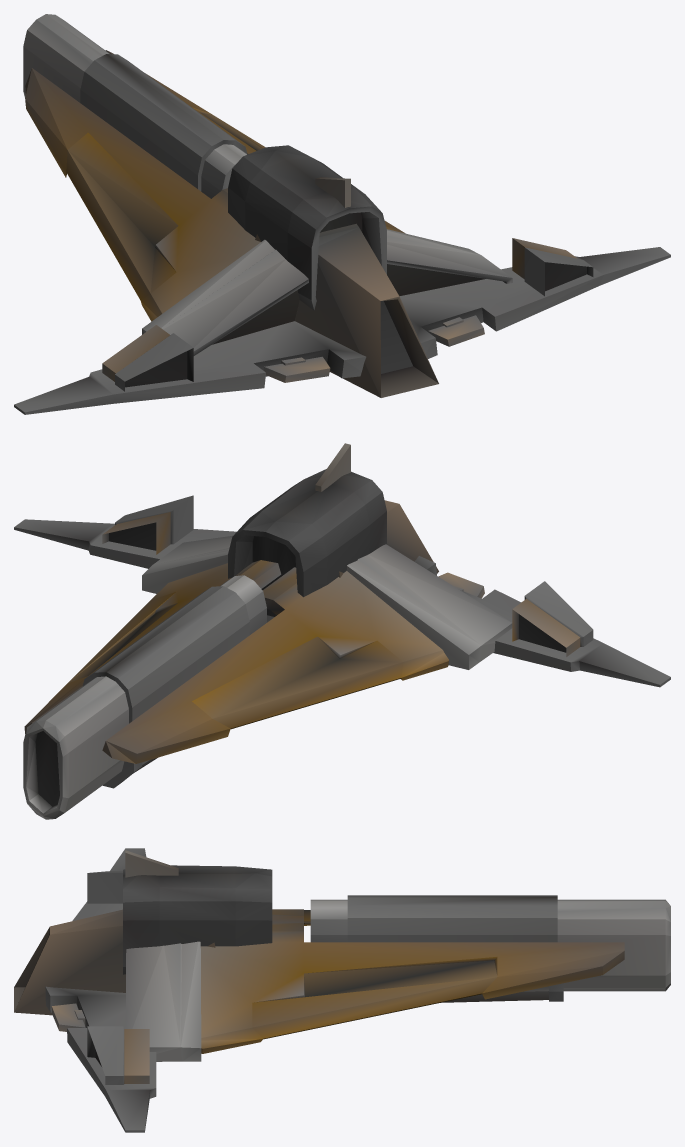
File: omen.glb
3 renders of one model, top to bottom at view 1: azimuth 30°, elevation 25°; view 2: azimuth 150°, elevation 25°; view 3: azimuth 270°, elevation 25°, orthographic. The views are drawn at different scales.
Parts seen in each view (by area): view 1: Omen; view 2: Omen; view 3: Omen.
Part boxes in pixels (x1,y1,x2,y2): Omen: (14,14,670,414); Omen: (14,443,670,819); Omen: (14,848,670,1132).
Bounding box in the file's own units: 1 × 0.2455 × 0.9841.
